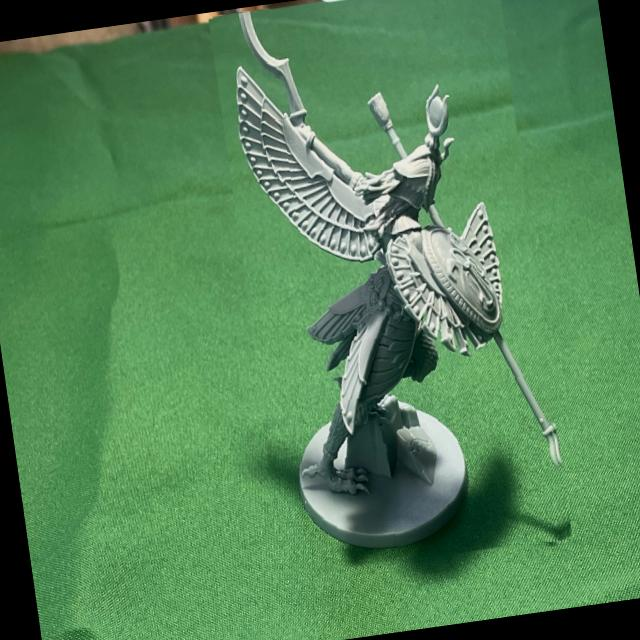isis: (207, 0, 575, 578)
